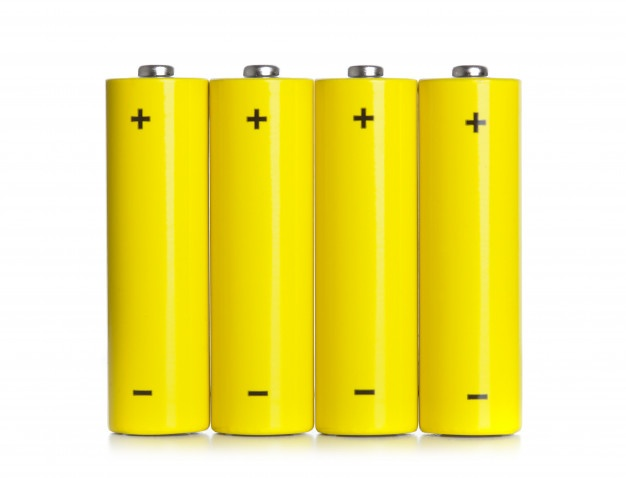Battery: (208, 63, 315, 437), (417, 65, 523, 439), (105, 64, 211, 436), (315, 65, 419, 437)
